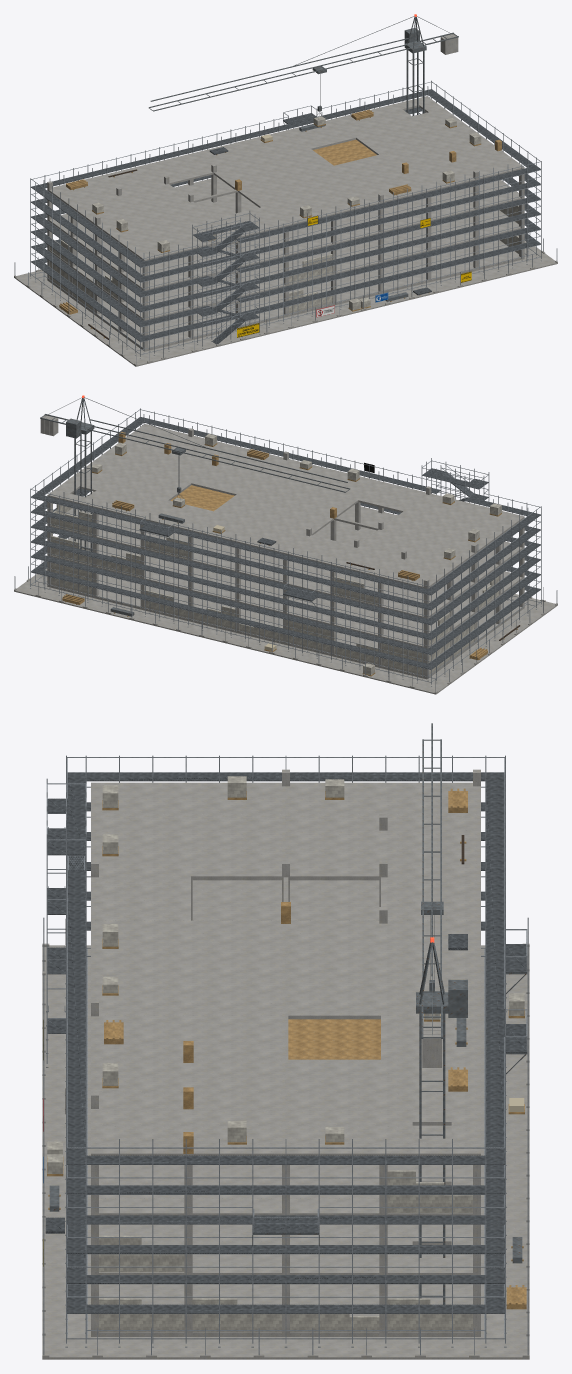
The model's file is edificio_construccion_60x30_lod2.glb.
3 renders of one model, top to bottom at view 1: azimuth 30°, elevation 25°; view 2: azimuth 150°, elevation 25°; view 3: azimuth 270°, elevation 25°, orthographic. The views are drawn at different scales.
Visible parts, largest first — view 1: MAT_Concrete, MAT_Metal_Grating, MAT_Galvanized_Steel, MAT_Concrete_Block, MAT_Aged_Steel, MAT_Formwork_Wood; view 2: MAT_Concrete, MAT_Metal_Grating, MAT_Galvanized_Steel, MAT_Concrete_Block, MAT_Aged_Steel, MAT_Formwork_Wood; view 3: MAT_Concrete, MAT_Metal_Grating, MAT_Galvanized_Steel, MAT_Concrete_Block, MAT_Formwork_Wood, MAT_Aged_Steel.
Part boxes in pixels (x1=…): MAT_Concrete: x1=14, y1=34, x2=557, y2=366; MAT_Metal_Grating: x1=30, y1=89, x2=540, y2=344; MAT_Galvanized_Steel: x1=14, y1=80, x2=557, y2=364; MAT_Concrete_Block: x1=49, y1=116, x2=518, y2=313; MAT_Aged_Steel: x1=30, y1=16, x2=541, y2=358; MAT_Formwork_Wood: x1=59, y1=109, x2=501, y2=338; MAT_Concrete: x1=14, y1=415, x2=557, y2=694; MAT_Metal_Grating: x1=31, y1=416, x2=541, y2=669; MAT_Galvanized_Steel: x1=14, y1=408, x2=557, y2=691; MAT_Concrete_Block: x1=51, y1=434, x2=501, y2=675; MAT_Aged_Steel: x1=30, y1=397, x2=541, y2=686; MAT_Formwork_Wood: x1=62, y1=431, x2=517, y2=676; MAT_Concrete: x1=42, y1=769, x2=529, y2=1359; MAT_Metal_Grating: x1=45, y1=772, x2=527, y2=1313; MAT_Galvanized_Steel: x1=43, y1=755, x2=528, y2=1355; MAT_Concrete_Block: x1=47, y1=776, x2=524, y2=1331; MAT_Formwork_Wood: x1=47, y1=788, x2=526, y2=1309; MAT_Aged_Steel: x1=46, y1=723, x2=527, y2=1347.
Size of the model in its own units: 60 by 25.65 by 30.
16 materials, 14 textured.
